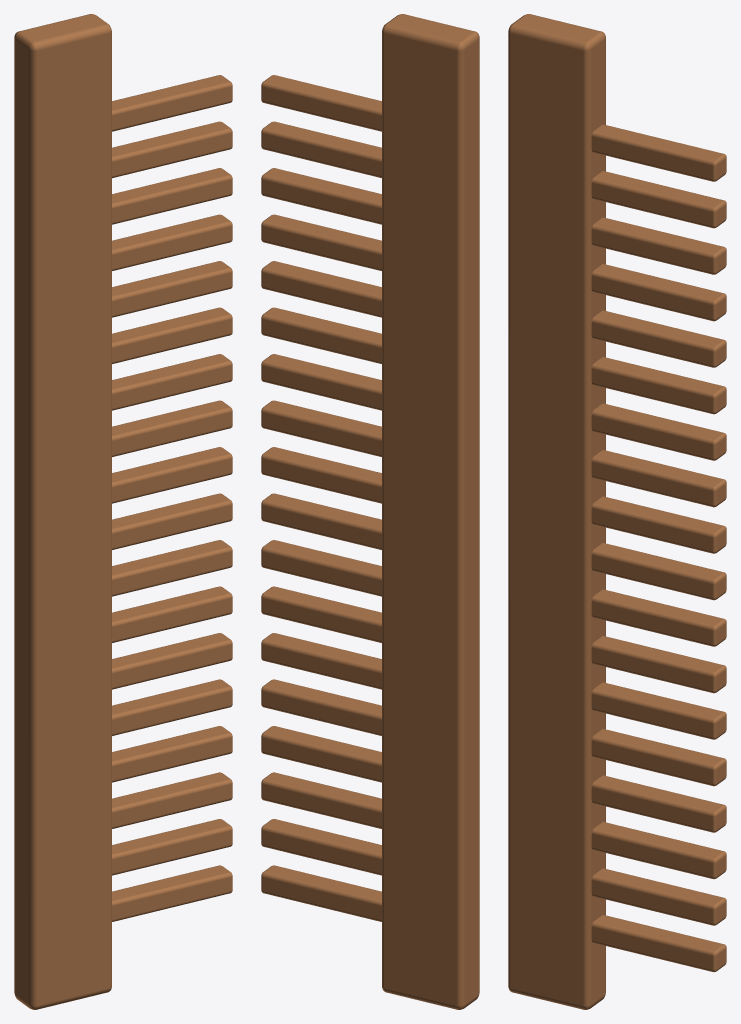
File: wp-peigne.glb
3 renders of one model, left to right at view 1: azimuth 30°, elevation 25°; view 2: azimuth 150°, elevation 25°; view 3: azimuth 330°, elevation 25°, orthographic.
Visible parts, largest first — view 1: wp-peigne; view 2: wp-peigne; view 3: wp-peigne.
Part boxes in pixels (x1,y1,x2,y2): wp-peigne: [14, 14, 232, 1009]; wp-peigne: [261, 14, 479, 1009]; wp-peigne: [508, 14, 726, 1009].
Bounding box in the file's own units: 0.04 × 0.18 × 0.007.
